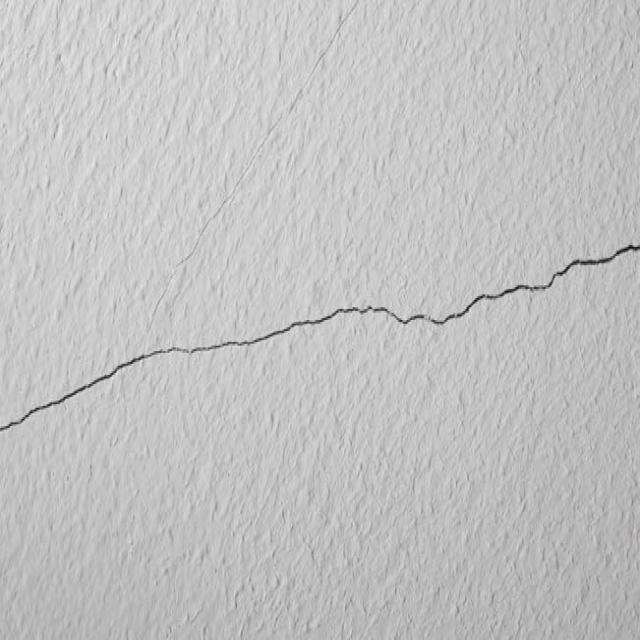Rachadura: (0, 228, 639, 442)
